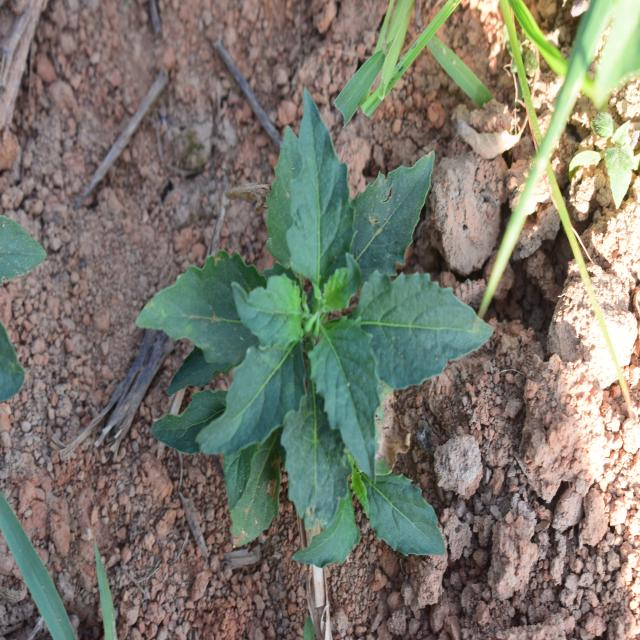Black_nightshade: (168, 140, 471, 552)
